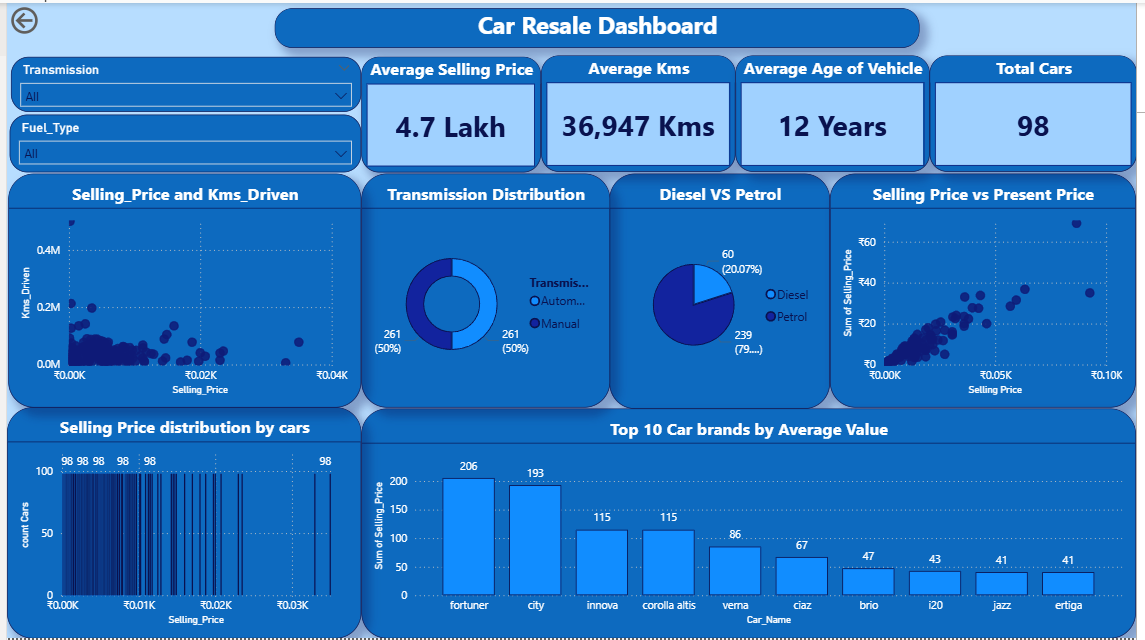

What the dashboard file says about the page in this screenshot:
{"tool":"powerbi","page":{"name":"Page 1","canvas":[1280,720],"ordinal":0},"visuals":[{"type":"pieChart","title":"Diesel VS Petrol","fields":{"Y":["Sum(cleaned_car_data.Fuel_Type_Diesel)","Sum(cleaned_car_data.Fuel_Type_Petrol)"]},"box":[683.3,193.3,250,266.7],"z":0},{"type":"kpi","title":"Car Resale Dashboard","fields":{"Indicator":["Sum(cleaned_car_data.Selling_Price)"]},"box":[303.4,5.9,730.3,44.6],"z":1000},{"type":"scatterChart","title":"Selling Price vs Present Price","fields":{"Category":["cleaned_car_data.Selling_Price"],"X":["Sum(cleaned_car_data.Present_Price)"],"Y":["Sum(cleaned_car_data.Selling_Price)"]},"box":[933.3,193.3,346.7,265],"z":2000},{"type":"cardVisual","title":"Average Selling Price","fields":{"Data":["cleaned_car_data.Average Selling Price Card"]},"box":[401.6,61,203.8,130.9],"z":3000},{"type":"cardVisual","title":"Average Kms","fields":{"Data":["cleaned_car_data.Average Kms"]},"box":[605,60,220,131.7],"z":4000},{"type":"cardVisual","title":"Average Age of Vehicle","fields":{"Data":["cleaned_car_data.Average Age"]},"box":[825,60,220,131.7],"z":5000},{"type":"columnChart","title":"Top 10 Car brands by Average Value","fields":{"Category":["daTA.Car_Name"],"Y":["Sum(daTA.Selling_Price)"]},"box":[401.6,459.6,877.6,260.3],"z":6000},{"type":"cardVisual","title":"Total Cars","fields":{"Data":["Count(daTA.Car_Name)"]},"box":[1045,60,235,131.7],"z":7000},{"type":"donutChart","title":"Transmission Distribution","fields":{"Category":["daTA.Transmission"],"Y":["Sum(cleaned_car_data.Transmission_Manual)"]},"box":[401.7,193.3,281.7,265],"z":8000},{"type":"slicer","fields":{"Values":["daTA.Transmission"]},"box":[4.5,61,397.1,62.5],"z":9000},{"type":"actionButton","box":[0,0,100,40],"z":10000},{"type":"clusteredColumnChart","title":"Selling Price distribution by cars","fields":{"Category":["cleaned_car_data.Selling_Price"],"Y":["daTA.count Cars"]},"box":[0,458.1,401.6,261.8],"z":11000},{"type":"slicer","fields":{"Values":["daTA.Fuel_Type"]},"box":[3,126.4,398.6,65.4],"z":12000},{"type":"scatterChart","fields":{"Y":["cleaned_car_data.Kms_Driven"],"X":["cleaned_car_data.Selling_Price"]},"box":[1.7,193.3,400,265],"z":13000}]}

Visuals, with their boxes in screenshot pixels (x1, y1, x2, y2), scaled from the page's 1280x720 canvas onto the 1145x640 screenshot:
"Diesel VS Petrol" pieChart: (611,172,835,409)
"Car Resale Dashboard" kpi: (271,5,925,45)
"Selling Price vs Present Price" scatterChart: (835,172,1144,407)
"Average Selling Price" cardVisual: (359,54,542,171)
"Average Kms" cardVisual: (541,53,738,170)
"Average Age of Vehicle" cardVisual: (738,53,935,170)
"Top 10 Car brands by Average Value" columnChart: (359,409,1144,639)
"Total Cars" cardVisual: (935,53,1144,170)
"Transmission Distribution" donutChart: (359,172,611,407)
slicer - daTA.Transmission: (4,54,359,110)
actionButton: (0,0,89,36)
"Selling Price distribution by cars" clusteredColumnChart: (0,407,359,639)
slicer - daTA.Fuel_Type: (3,112,359,170)
scatterChart - cleaned_car_data.Kms_Driven x cleaned_car_data.Selling_Price: (2,172,359,407)
